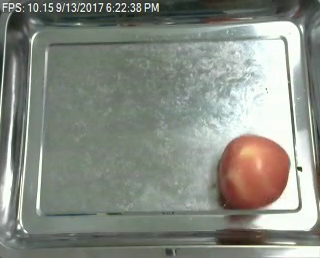Apple: (213, 132, 291, 210)
